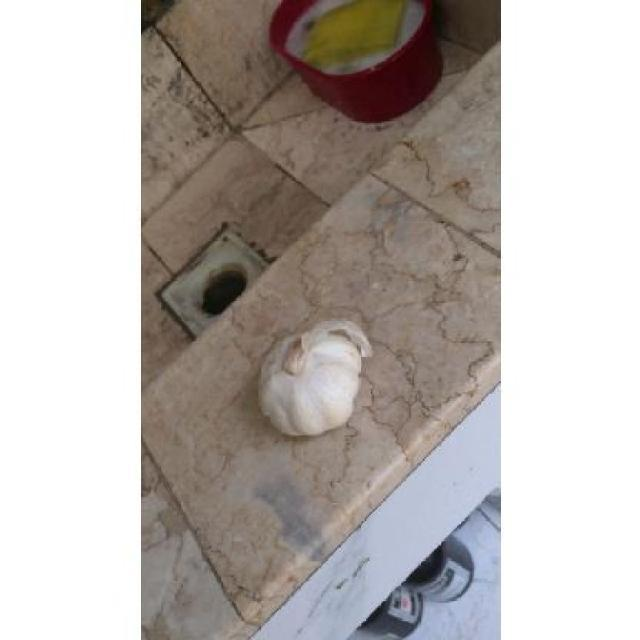garlic: (259, 321, 372, 436)
